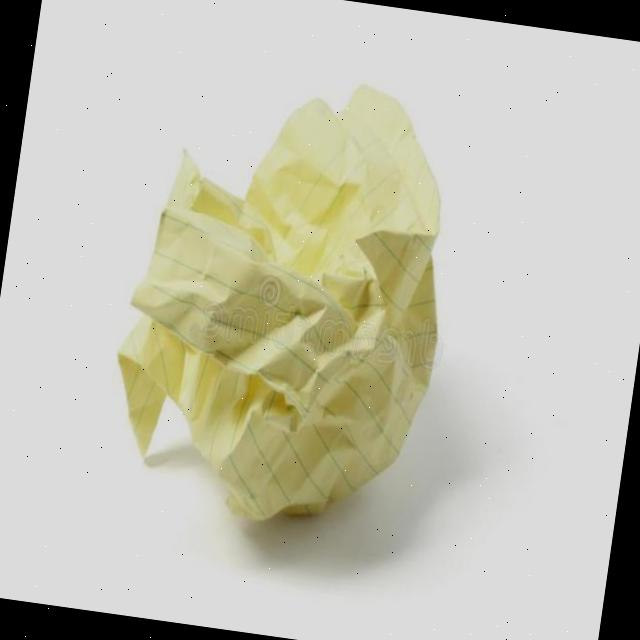trash: (114, 82, 444, 523)
